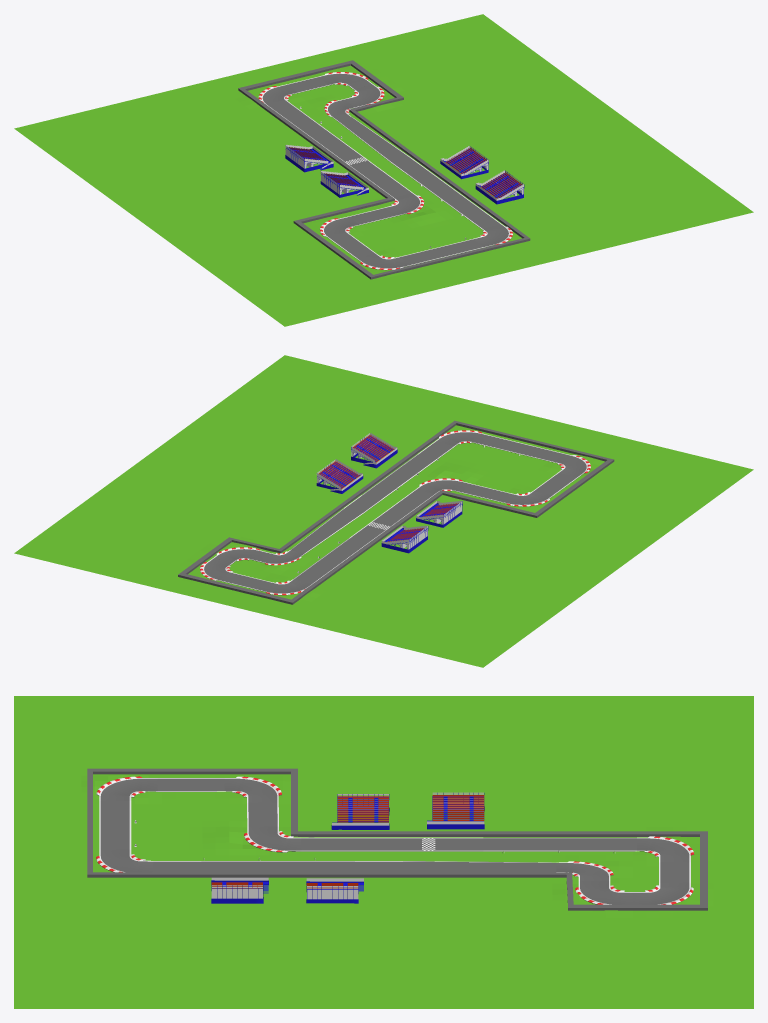
File: RaceTrack2.fbx
3 renders of one model, top to bottom at view 1: azimuth 30°, elevation 25°; view 2: azimuth 150°, elevation 25°; view 3: azimuth 270°, elevation 25°, orthographic. The views are drawn at different scales.
Visible parts, largest first — view 1: RaceTrack2; view 2: RaceTrack2; view 3: RaceTrack2.
Boxes of the visible parts, box(x1,y1,x2,y2) form: RaceTrack2: box(14, 14, 753, 326); RaceTrack2: box(14, 355, 753, 667); RaceTrack2: box(14, 696, 753, 1008).
Size of the model in its own units: 66676 by 1999 by 66676.
